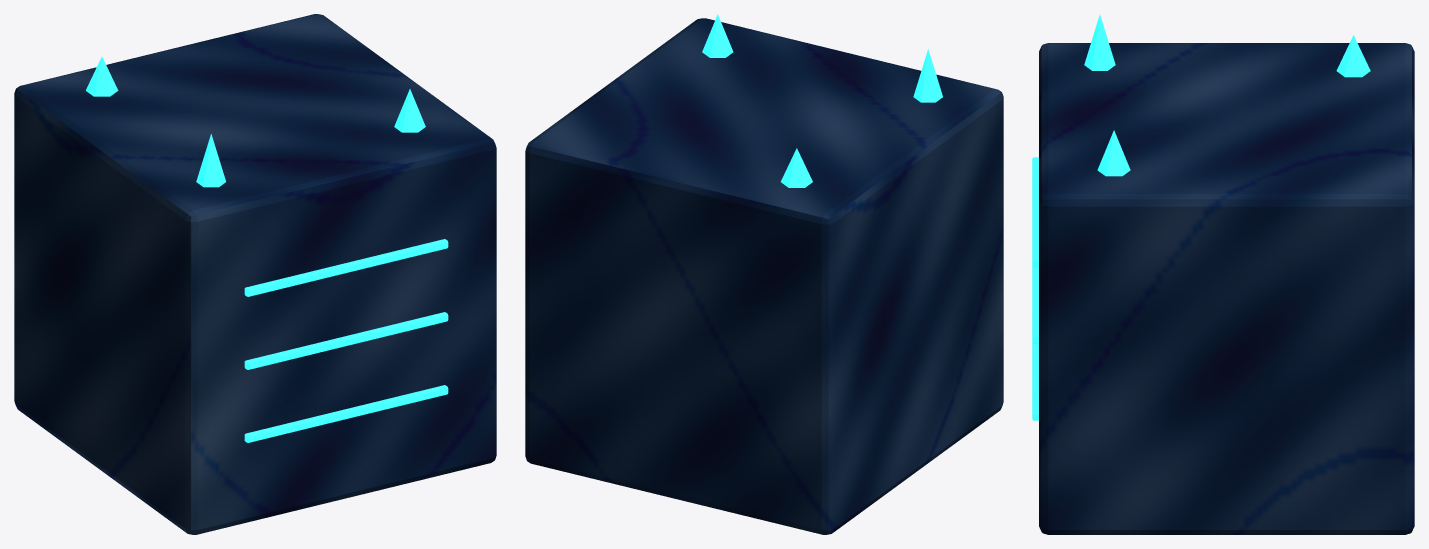
File: 06_RunicIceBlock.glb
3 renders of one model, left to right at view 1: azimuth 30°, elevation 25°; view 2: azimuth 150°, elevation 25°; view 3: azimuth 270°, elevation 25°, orthographic. The views are drawn at different scales.
Visible parts, largest first — view 1: Part.005, RunicBand, RunicBand.002, RunicBand.001, IceCrystal.003, IceCrystal.004, IceCrystal.005; view 2: Part.005, IceCrystal.003, IceCrystal.004, IceCrystal.005; view 3: Part.005, IceCrystal.003, IceCrystal.004, IceCrystal.005, RunicBand.002, RunicBand, RunicBand.001.
Boxes of the visible parts, x1,y1,x2,y2 form: Part.005: (14,14,496,534); RunicBand: (244,385,448,442); RunicBand.002: (244,239,448,296); RunicBand.001: (244,312,448,369); IceCrystal.003: (196,134,225,187); IceCrystal.004: (394,89,425,132); IceCrystal.005: (86,57,118,96); Part.005: (525,18,1003,534); IceCrystal.003: (913,49,942,102); IceCrystal.004: (702,14,733,57); IceCrystal.005: (781,148,812,187); Part.005: (1039,43,1414,534); IceCrystal.003: (1084,14,1115,70); IceCrystal.004: (1097,130,1130,176); IceCrystal.005: (1336,35,1370,77); RunicBand.002: (1032,157,1038,267); RunicBand: (1032,343,1038,420); RunicBand.001: (1032,266,1038,343).
Size of the model in its own units: 4 by 4.6 by 4.07.
2 materials, 1 textured.
